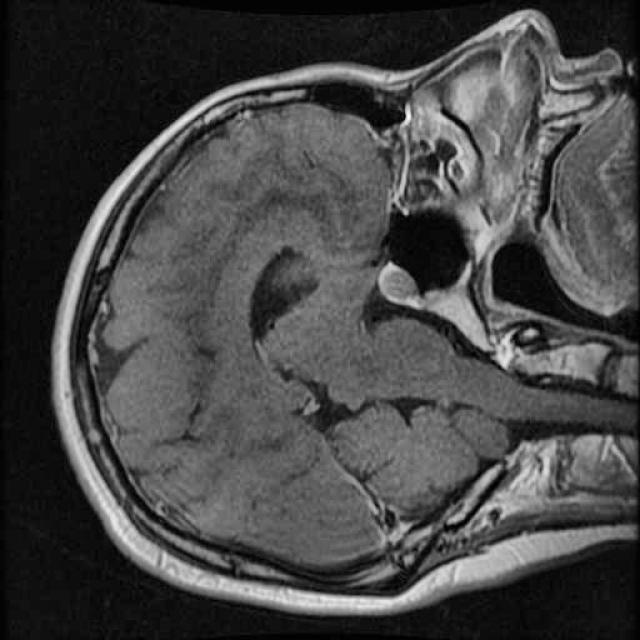Tumor: (366, 248, 434, 321)
